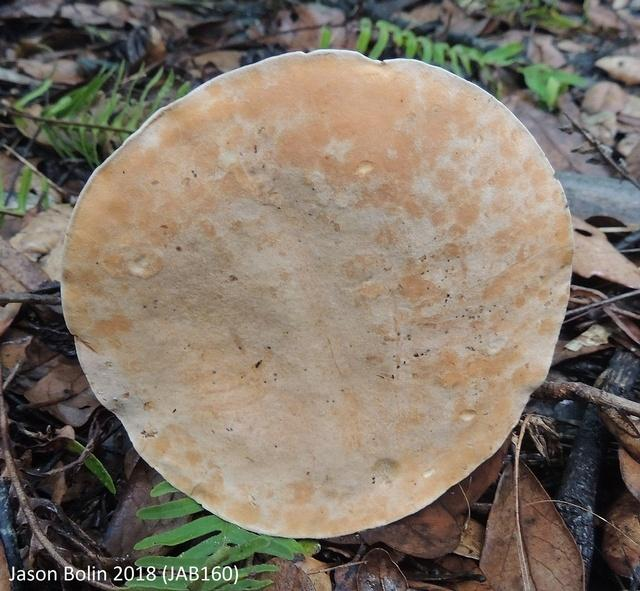Edible Mushroom: (58, 47, 576, 540)
